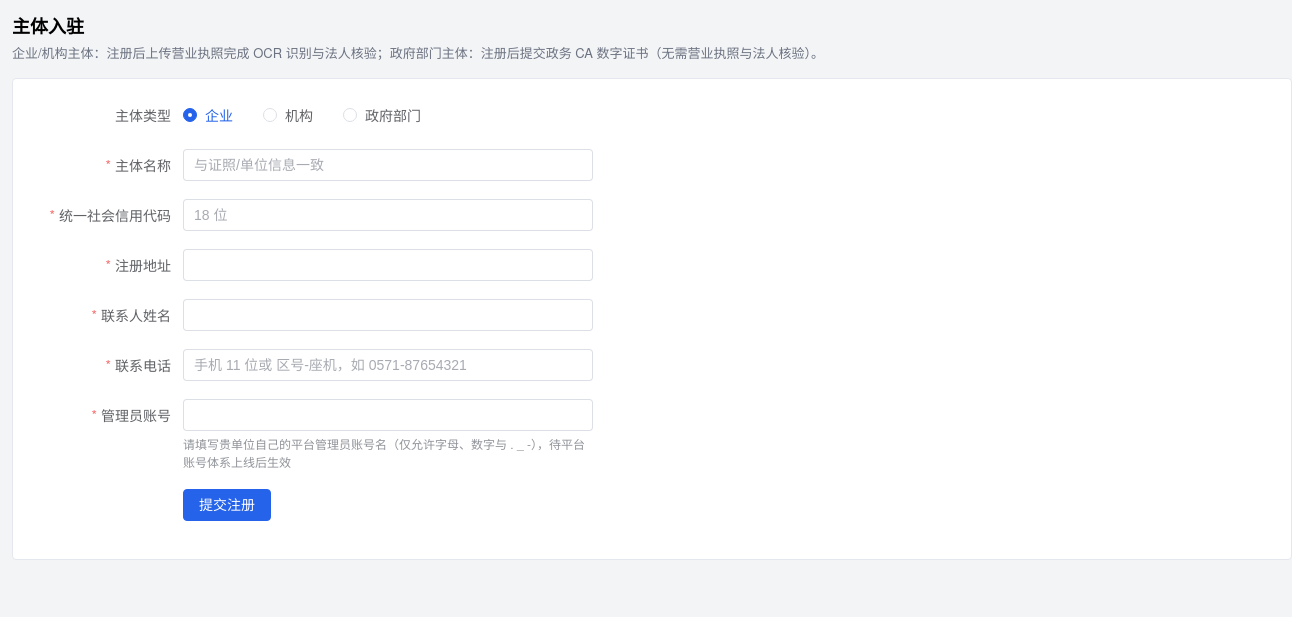
Test: 主体注册页（WBS-3.1.5 界面化） › 选择政府部门后显示政务 CA 流程提示（行为 6 界面分支）
Click the radio button labelled "政府部门".
click(382, 115)  # box [343,99,421,131]
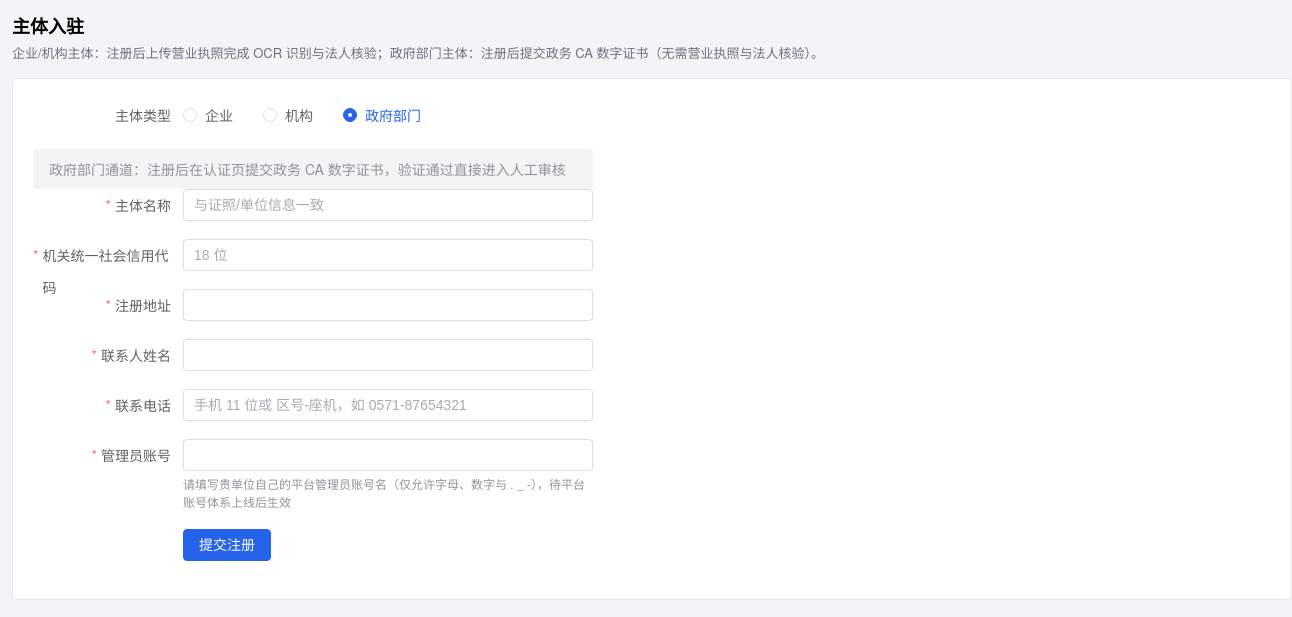
Check: the text "政务 CA 数字证书" is shown, box [12,43,824,62]
Check: the text "政府部门通道" is shown, box [49,159,566,179]
